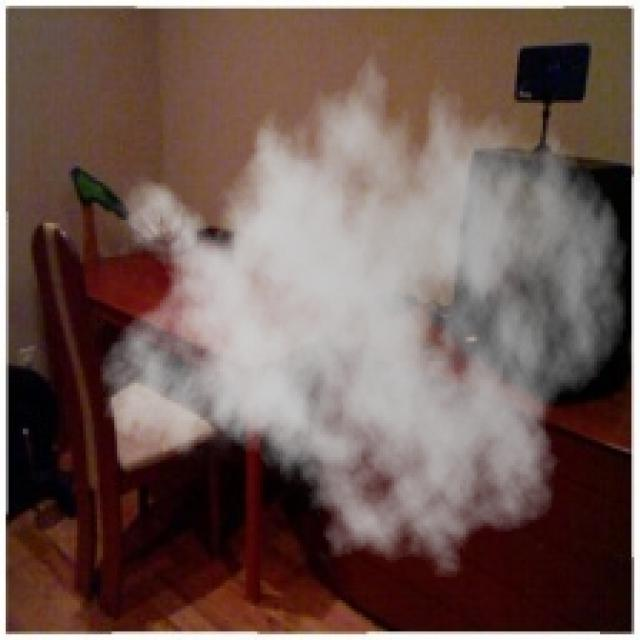smoke: (97, 29, 629, 592)
